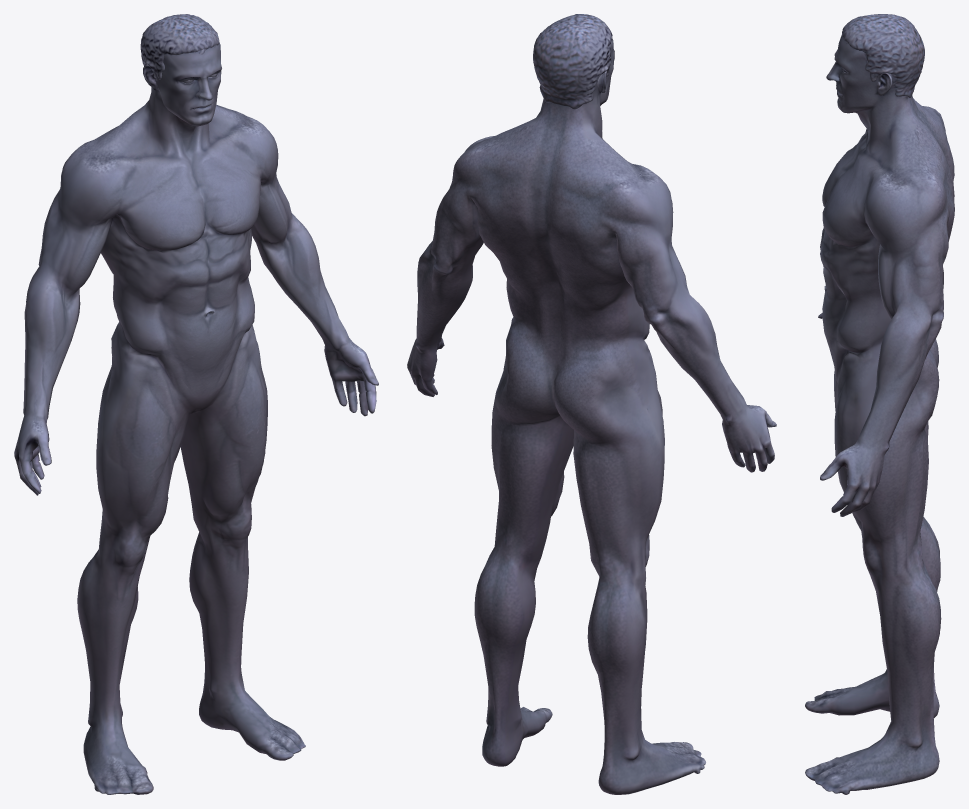
File: tripo-full-body.glb
The picture shows the model from 3 angles, left to right: view 1: azimuth 30°, elevation 25°; view 2: azimuth 150°, elevation 25°; view 3: azimuth 270°, elevation 25°; orthographic projection.
Visible parts, largest first — view 1: tripo-full-body; view 2: tripo-full-body; view 3: tripo-full-body.
Part boxes in pixels (x1,y1,x2,y2): tripo-full-body: (14, 14, 378, 794); tripo-full-body: (407, 14, 776, 794); tripo-full-body: (805, 14, 954, 794).
Size of the model in its own units: 0.9066 by 1.8 by 0.335.
Materials: 1 (1 with a texture image).
